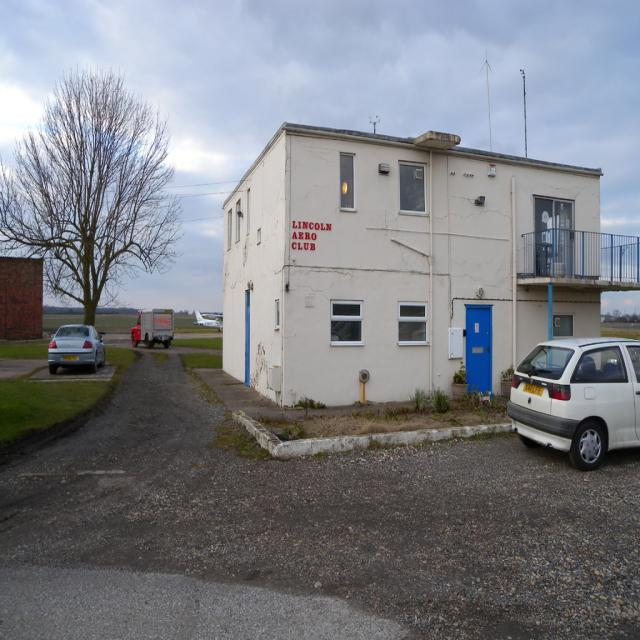car: (46, 319, 106, 375)
